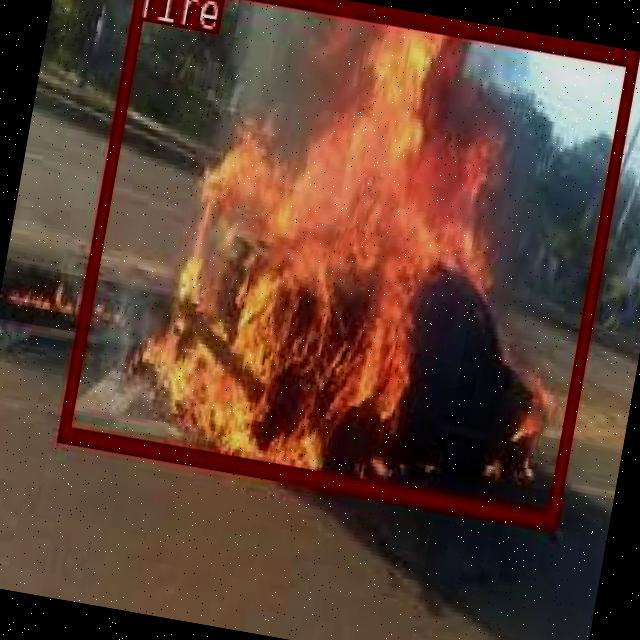fire: (57, 0, 638, 526)
